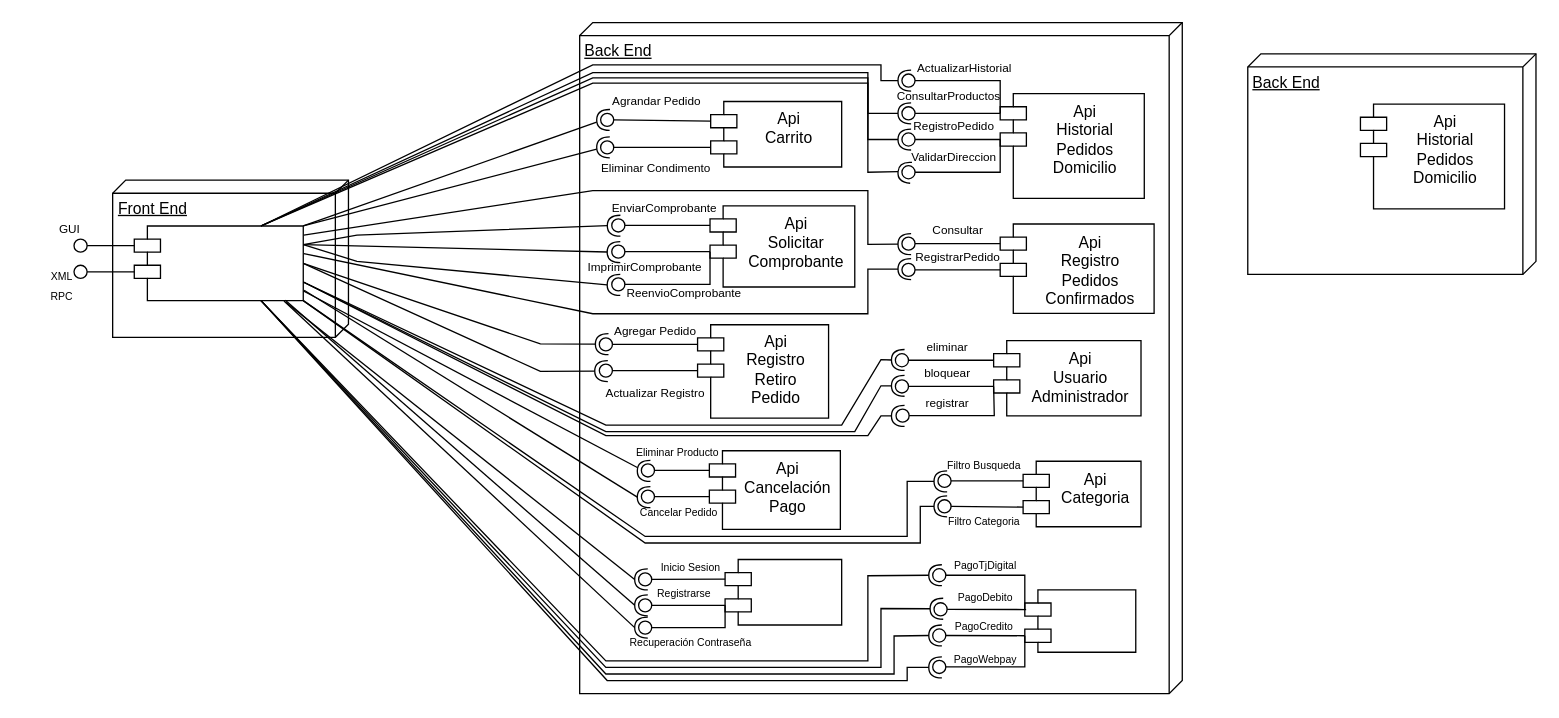
Some shapes in this 1559 by 718 pixel diagram are drawn without their labels. The shapes that lost their labels are listed below. From the top down, each one's centre as x and y in pixels, then its label:
point (218, 263): WebApp
point (783, 591): Api Usuario
point (1080, 620): Api Pago
